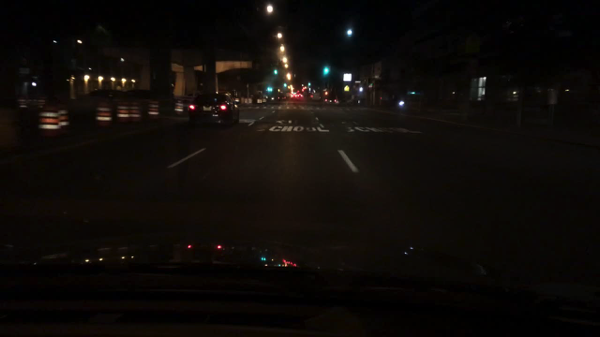car: (188, 92, 242, 132), (90, 88, 128, 100), (127, 88, 157, 102), (321, 95, 339, 105), (265, 92, 280, 102), (309, 91, 322, 101), (231, 96, 241, 105), (278, 92, 286, 102), (290, 94, 298, 98), (297, 93, 303, 98)
traffic light: (323, 66, 329, 74), (327, 66, 331, 74), (273, 68, 277, 75), (283, 82, 287, 88), (267, 87, 270, 91)
traffic sign: (344, 85, 349, 92)
